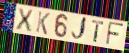6: (54, 13, 69, 39)
F: (105, 21, 125, 47)
J: (70, 16, 88, 42)
K: (35, 10, 51, 36)
T: (91, 19, 105, 44)
X: (15, 7, 34, 33)
